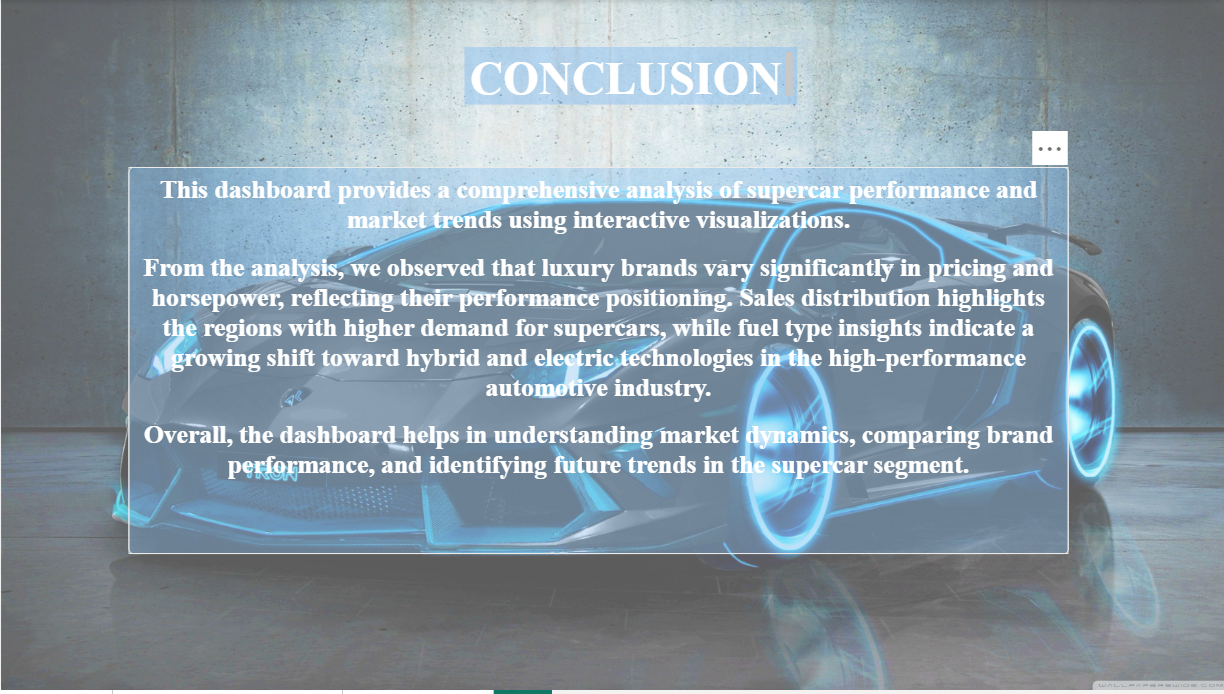

Layout of this report page (visuals, bound fields, positions):
{"tool":"powerbi","page":{"name":"Conclusion","canvas":[1280,720],"ordinal":2},"visuals":[{"type":"textbox","box":[483.3,50,346.7,60],"z":0},{"type":"textbox","box":[133.3,175,980,403.3],"z":1000}]}

Visuals, with their boxes in screenshot pixels (x1, y1, x2, y2), scaled from the page's 1280x720 canvas onto the 1224x694 screenshot:
textbox: Rect(462, 48, 794, 106)
textbox: Rect(127, 169, 1065, 557)
